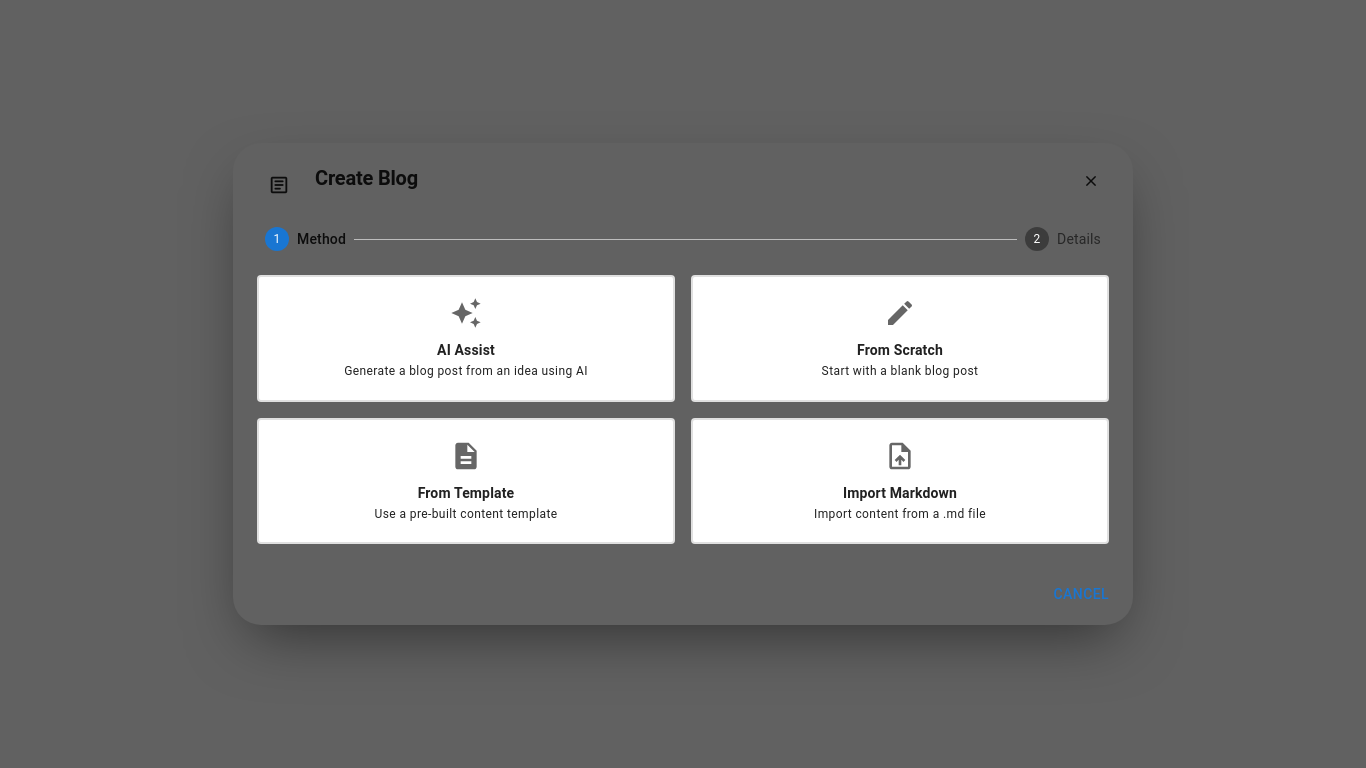
CreateBlogWizard › surfaces an AI outline failure as an error alert
Click the text "AI Assist" at (466, 350), box top-left (437, 340), bottom-right (495, 360)
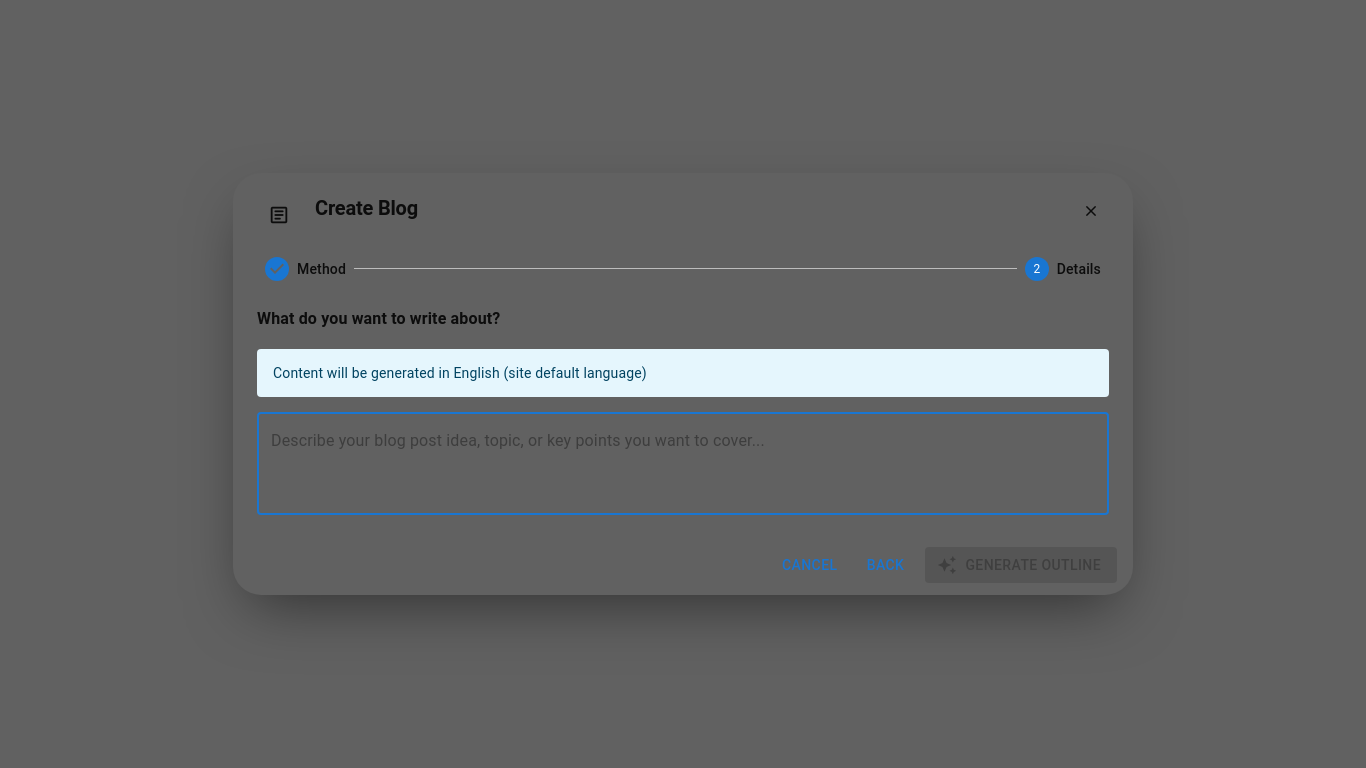
Type "idea" into the text box with placeholder "Describe your blog post idea" at (683, 464), box top-left (271, 429), bottom-right (1095, 498)
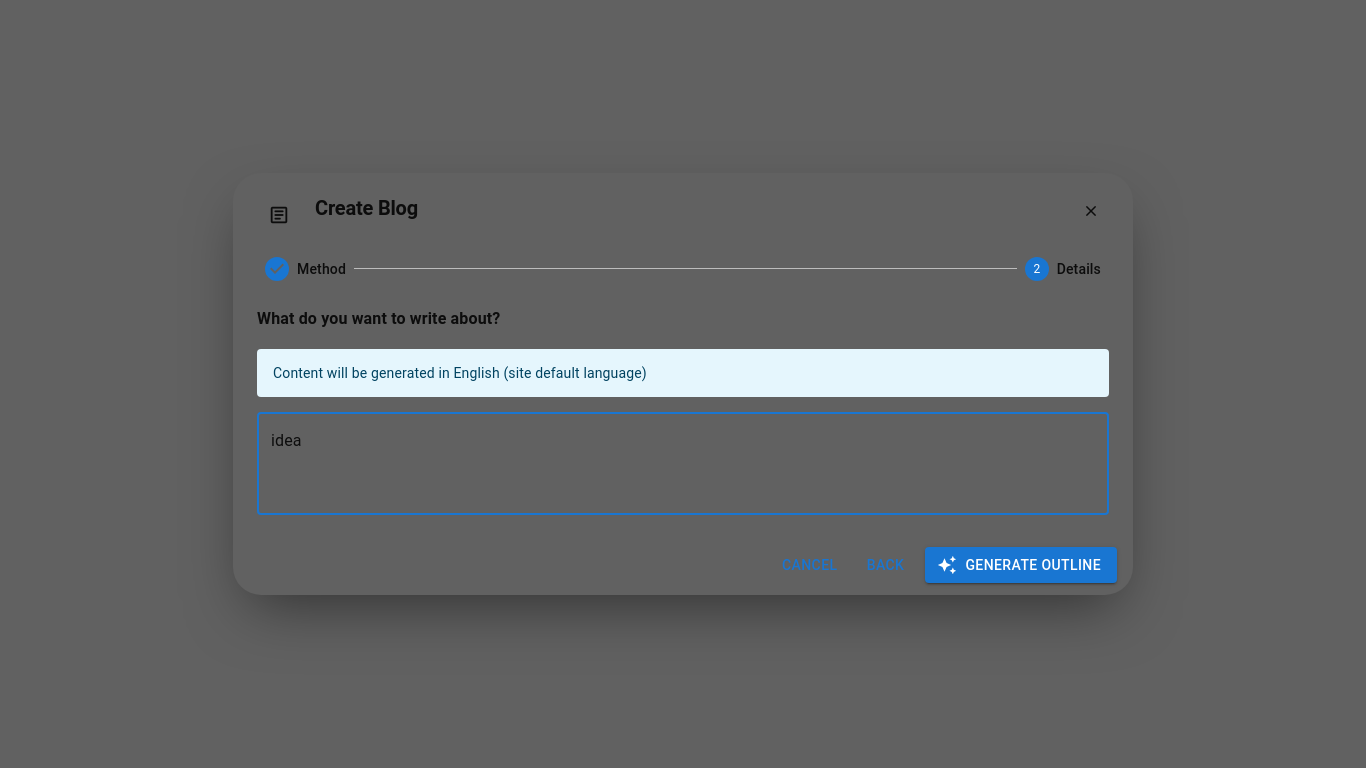
Click the button "Generate Outline" at (1021, 565), box top-left (925, 547), bottom-right (1117, 583)
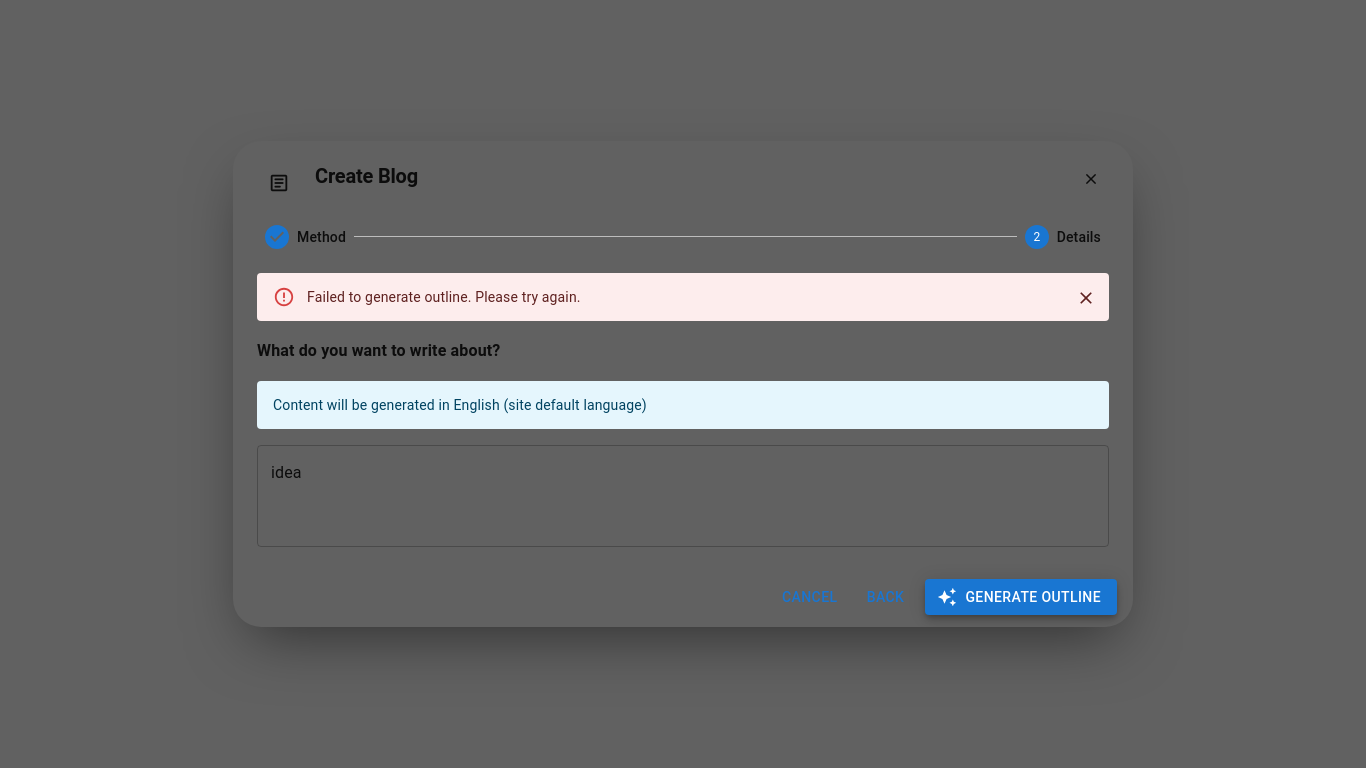
Expected: the button "Generate Outline" is shown, top-left (925, 579), bottom-right (1117, 615)
Expected: the text "Failed to generate outline. Please try again." is shown, top-left (307, 289), bottom-right (581, 305)
